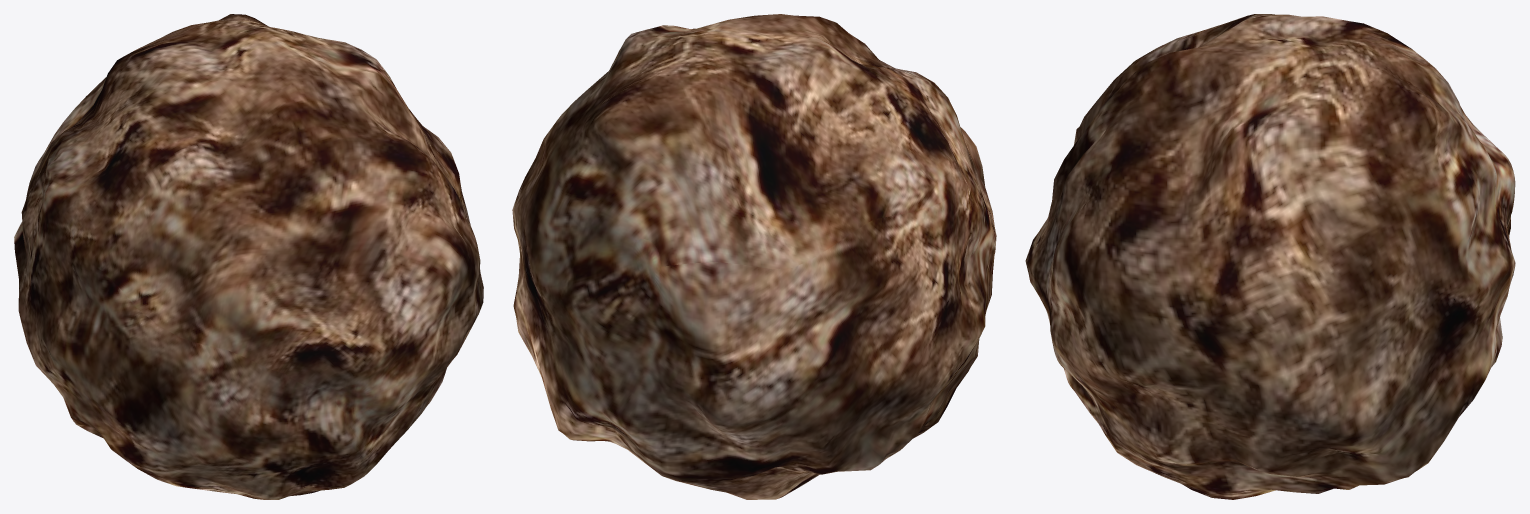
The model's file is PepperBrown.obj.
3 renders of one model, left to right at view 1: azimuth 30°, elevation 25°; view 2: azimuth 150°, elevation 25°; view 3: azimuth 270°, elevation 25°, orthographic. The views are drawn at different scales.
Visible parts, largest first — view 1: PepperBrown; view 2: PepperBrown; view 3: PepperBrown.
Part boxes in pixels (left/top/right/bottom): PepperBrown: left=14, top=14, right=483, bottom=499; PepperBrown: left=512, top=14, right=996, bottom=499; PepperBrown: left=1025, top=14, right=1515, bottom=499.
Bounding box in the file's own units: 0.00403 × 0.00408 × 0.00409.
1 material, 1 textured.
